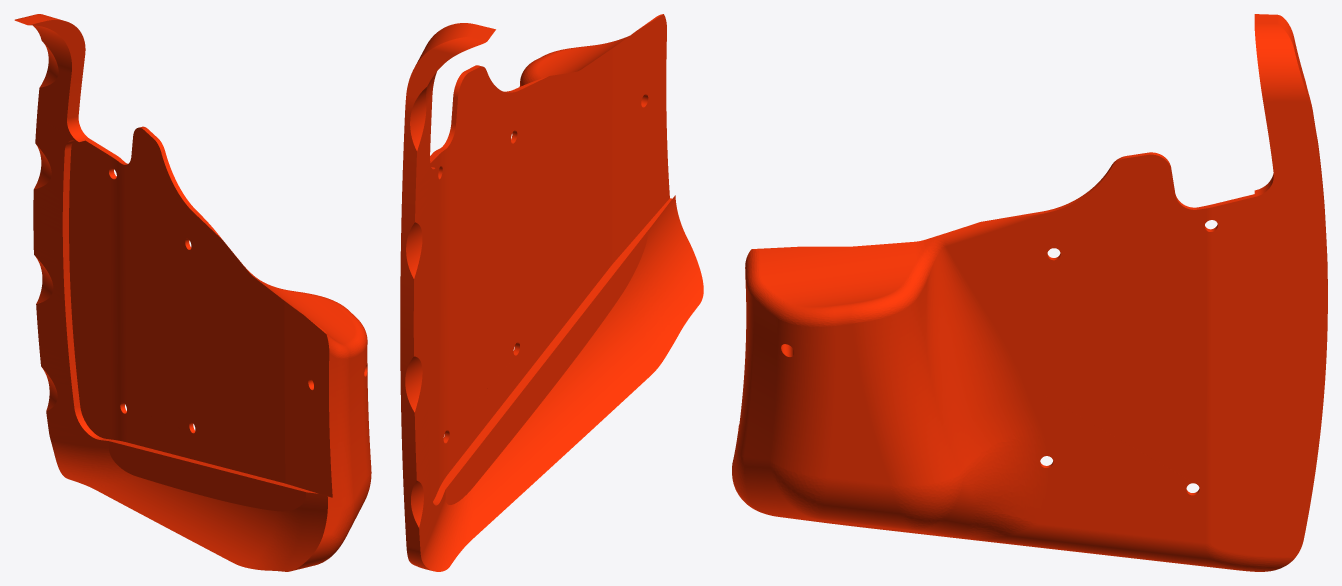
The model's file is ALLEX_Left_Hand_Palm_Pad.obj.
3 renders of one model, left to right at view 1: azimuth 30°, elevation 25°; view 2: azimuth 150°, elevation 25°; view 3: azimuth 270°, elevation 25°, orthographic. The views are drawn at different scales.
Size of the model in its own units: 0.03 by 0.0879 by 0.0895.
